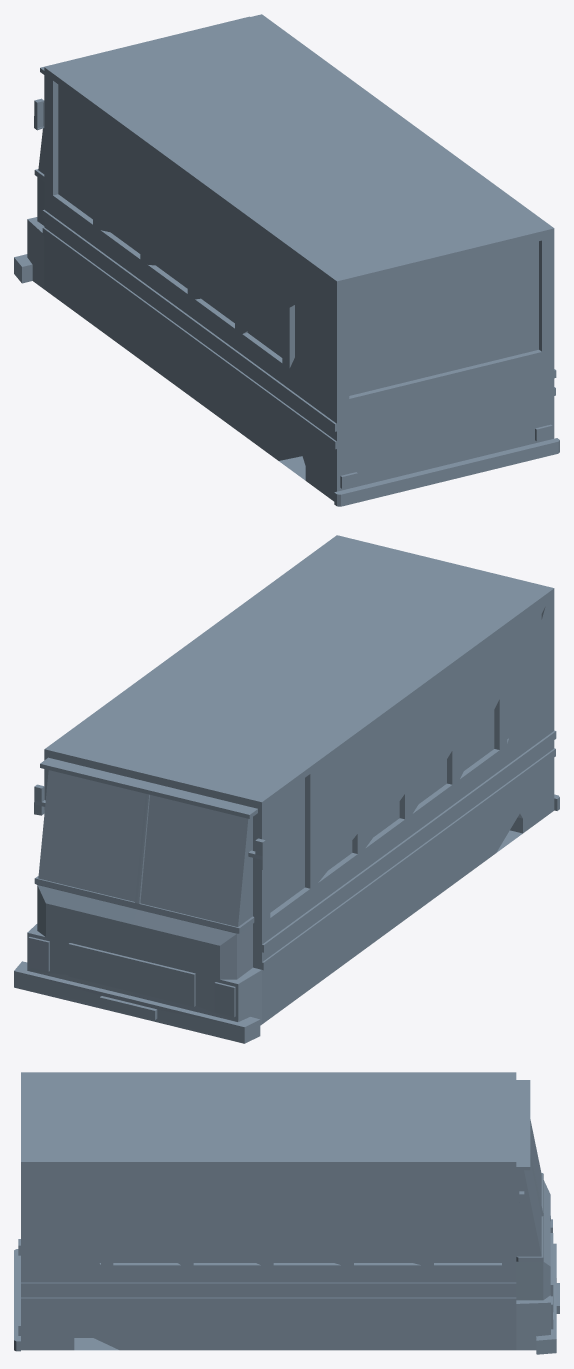
File: bus.glb
The picture shows the model from 3 angles, top to bottom: view 1: azimuth 30°, elevation 25°; view 2: azimuth 150°, elevation 25°; view 3: azimuth 270°, elevation 25°; orthographic projection. The views are drawn at different scales.
Parts seen in each view (by area): view 1: bus-top, bus-windows, bus-bottom, bus-bumper; view 2: bus-top, bus-windows, bus-bottom, bus-bumper, bus-details, bus-lights; view 3: bus-top, bus-bottom, bus-windows, bus-bumper, bus-details.
Boxes of the visible parts, x1,y1,x2,y2 form: bus-top: (34,14,554,448); bus-windows: (38,84,538,395); bus-bottom: (22,217,554,501); bus-bumper: (14,98,559,506); bus-top: (34,535,554,979); bus-windows: (38,614,541,926); bus-bottom: (27,758,554,1025); bus-bumper: (14,730,559,1043); bus-details: (68,943,195,1019); bus-lights: (28,937,235,1017); bus-top: (21,1072,550,1300); bus-bottom: (21,1216,550,1350); bus-windows: (36,1119,541,1262); bus-bumper: (14,1191,556,1354); bus-details: (550,1233,559,1313).
Size of the model in its own units: 1.74 by 1.56 by 4.09.
